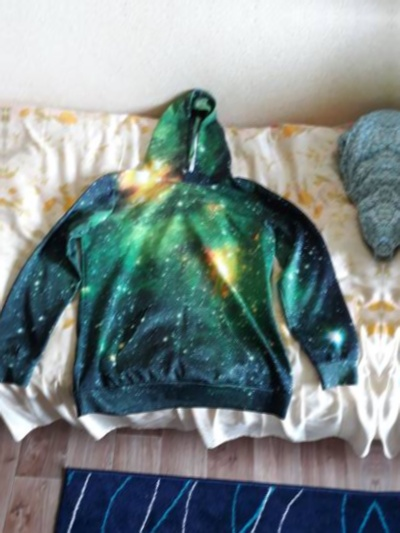Hoodie: (8, 76, 360, 452)
